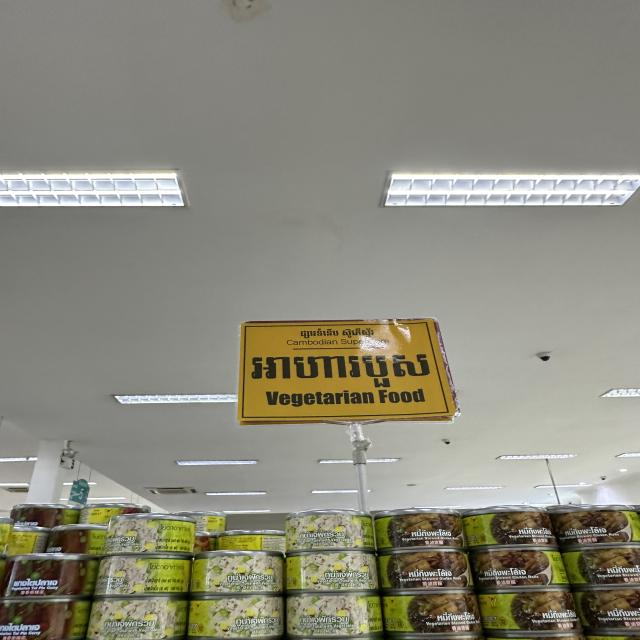1: (292, 326, 380, 338)
Yolov11kh: (241, 350, 436, 392)
